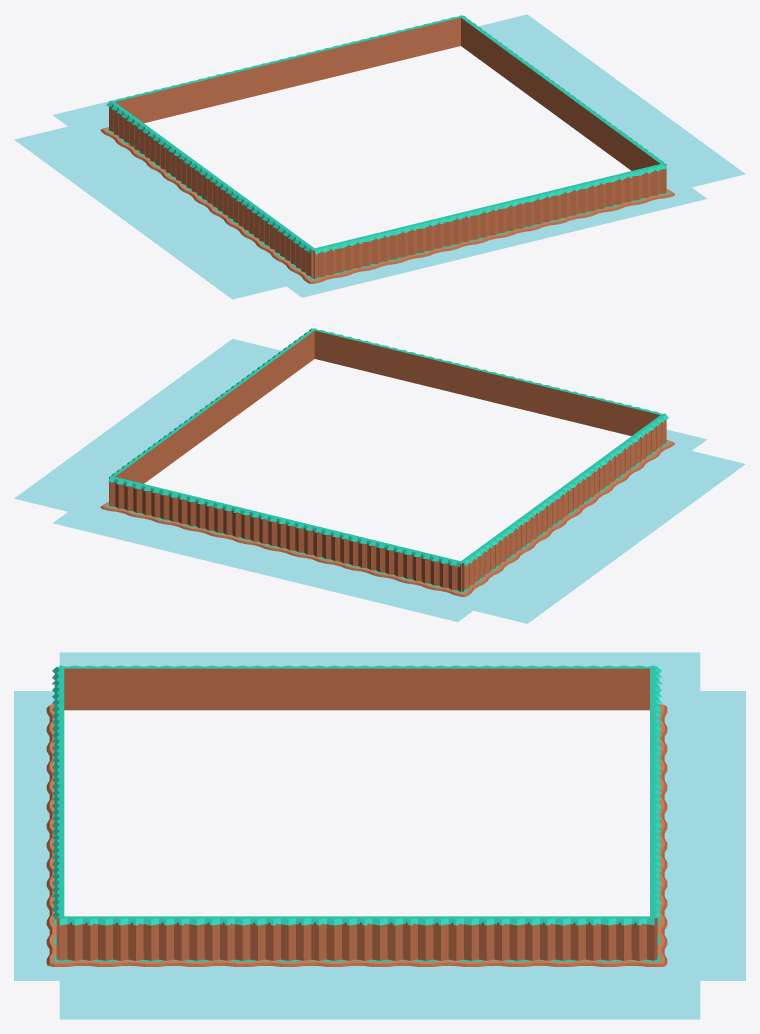
The model's file is level-background.glb.
3 views of the same model, one above another, from view 1: azimuth 30°, elevation 25°; view 2: azimuth 150°, elevation 25°; view 3: azimuth 270°, elevation 25° (orthographic). The views are drawn at different scales.
Visible parts, largest first — view 1: mergedBlocks(Clone); view 2: mergedBlocks(Clone); view 3: mergedBlocks(Clone).
Part boxes in pixels (x1,y1,x2,y2): mergedBlocks(Clone): (14,14,745,299); mergedBlocks(Clone): (14,328,745,623); mergedBlocks(Clone): (14,652,745,1019).
Bounding box in the file's own units: 19 × 1.05 × 16.
